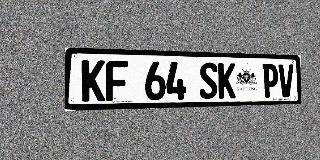4: (166, 62, 186, 100)
6: (145, 61, 166, 100)
F: (106, 60, 128, 101)
K: (81, 60, 105, 102), (218, 63, 236, 99)
P: (262, 64, 278, 98)
S: (199, 62, 218, 99)
V: (278, 64, 294, 97)
